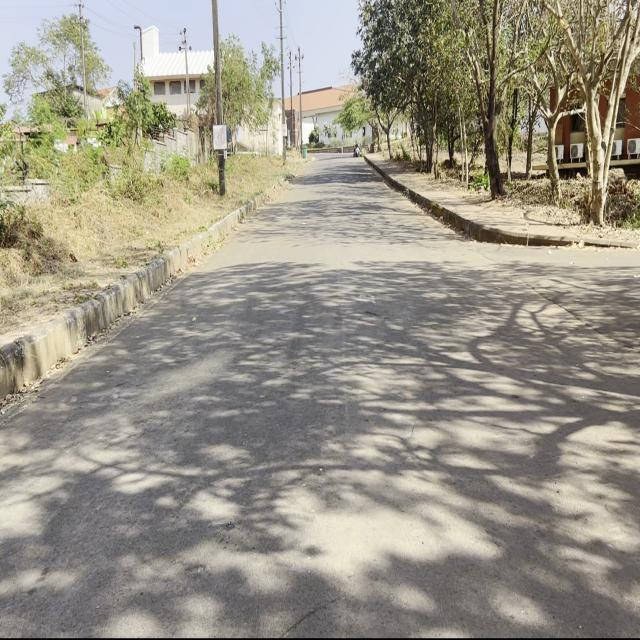Road: (4, 160, 636, 631)
